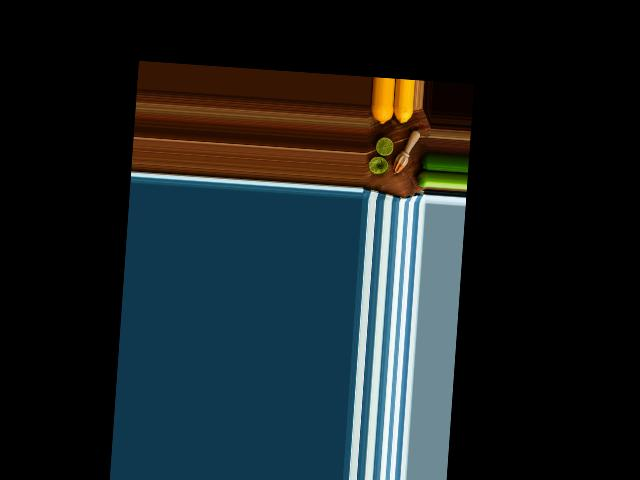lemon: (368, 105, 396, 127)
